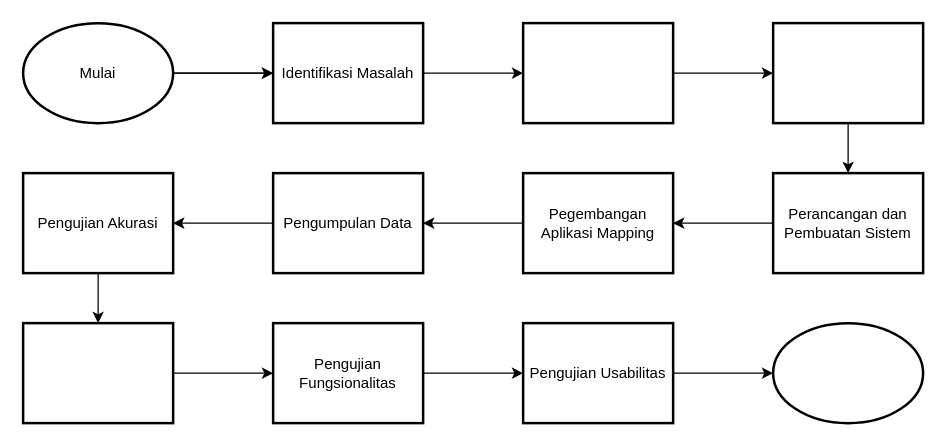
The diagram is 945 pixels wide and 445 high, and some of its shapes have lost their labels. Here are the shapes that lost their labels. From the top down, the centre of each, then its label:
At pixel 597 72: "Analisis Kebutuhan".
At pixel 847 72: "Studi Literatur".
At pixel 97 372: "Pembuatan Aplikasi Penentuan lokasi dan estimasi orang dalam gedung".
At pixel 847 372: "Selesai".
